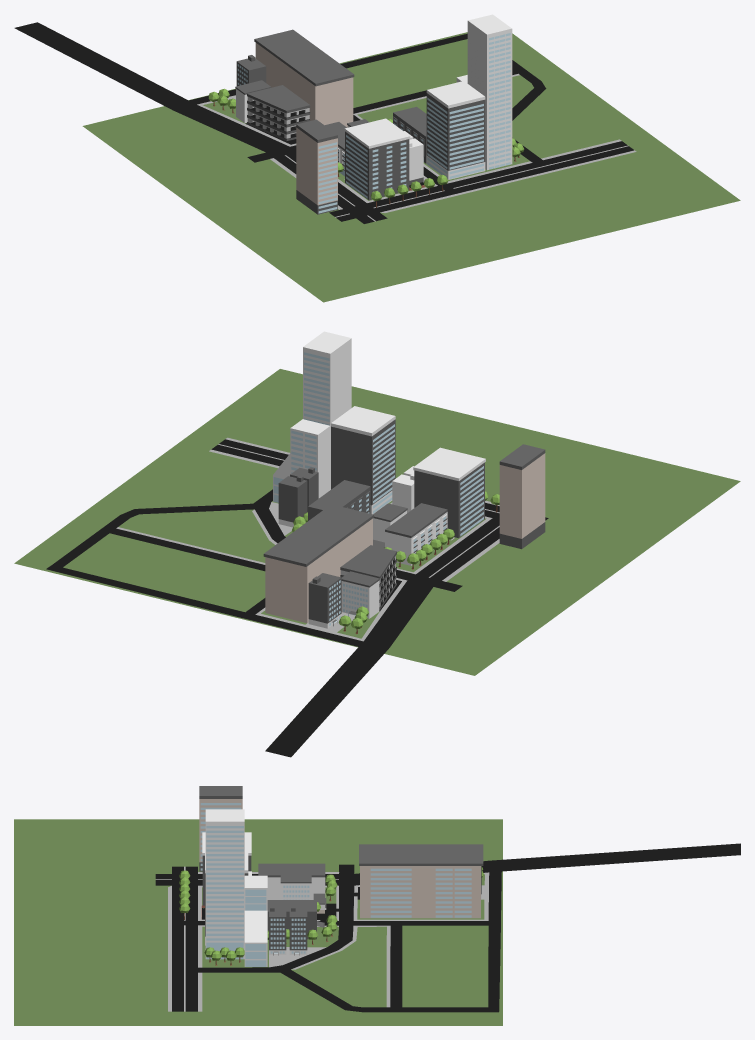
The model's file is city.glb.
The picture shows the model from 3 angles, top to bottom: view 1: azimuth 30°, elevation 25°; view 2: azimuth 150°, elevation 25°; view 3: azimuth 270°, elevation 25°; orthographic projection. The views are drawn at different scales.
Parts seen in each view (by area): view 1: ground, road, building_4.001, building_7, building_3, building_4, building_3.001, building_8, building_5.001, building_1.002, building_1, tree.011 (+1 smaller); view 2: ground, road, building_4.001, building_7, building_3, building_4, building_3.001, building_5, building_1.001, building_8, building_1.002, building_2.001 (+3 smaller); view 3: ground, road, building_4.001, building_7, building_1.001, building_5, building_3.001, building_2, building_5.001, building_4, tree.011.
Part boxes in pixels (left/top/right/bottom): ground: left=82, top=32, right=740, bottom=302; road: left=14, top=22, right=636, bottom=223; building_4.001: left=254, top=29, right=354, bottom=127; building_7: left=456, top=14, right=512, bottom=170; building_3: left=426, top=81, right=485, bottom=179; building_4: left=344, top=118, right=410, bottom=200; building_3.001: left=296, top=119, right=337, bottom=214; building_8: left=247, top=85, right=310, bottom=141; building_5.001: left=393, top=106, right=426, bottom=163; building_1.002: left=236, top=55, right=266, bottom=86; building_1: left=404, top=131, right=423, bottom=185; tree.011: left=370, top=174, right=448, bottom=207; ground: left=14, top=369, right=740, bottom=675; road: left=46, top=437, right=548, bottom=757; building_4.001: left=263, top=504, right=373, bottom=623; building_7: left=273, top=331, right=351, bottom=502; building_3: left=331, top=406, right=395, bottom=514; building_4: left=413, top=447, right=485, bottom=538; building_3.001: left=499, top=444, right=545, bottom=549; building_5: left=385, top=503, right=454, bottom=565; building_1.001: left=278, top=467, right=318, bottom=527; building_8: left=340, top=545, right=396, bottom=610; building_1.002: left=308, top=573, right=341, bottom=628; building_2.001: left=341, top=571, right=379, bottom=618; ground: left=14, top=819, right=502, bottom=1025; road: left=155, top=843, right=740, bottom=1012; building_4.001: left=359, top=844, right=483, bottom=918; building_7: left=205, top=809, right=267, bottom=966; building_1.001: left=269, top=906, right=307, bottom=955; building_5: left=258, top=863, right=325, bottom=899; building_3.001: left=199, top=786, right=242, bottom=871; building_2: left=280, top=873, right=311, bottom=899; building_5.001: left=267, top=900, right=324, bottom=939; building_4: left=202, top=832, right=251, bottom=905; tree.011: left=179, top=870, right=190, bottom=919.
Size of the model in its own units: 348 by 110 by 518.
